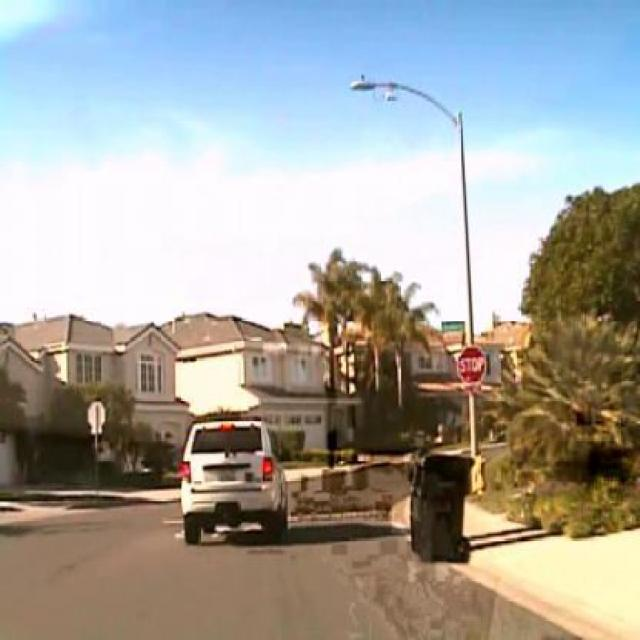Stop: (456, 345, 486, 387)
